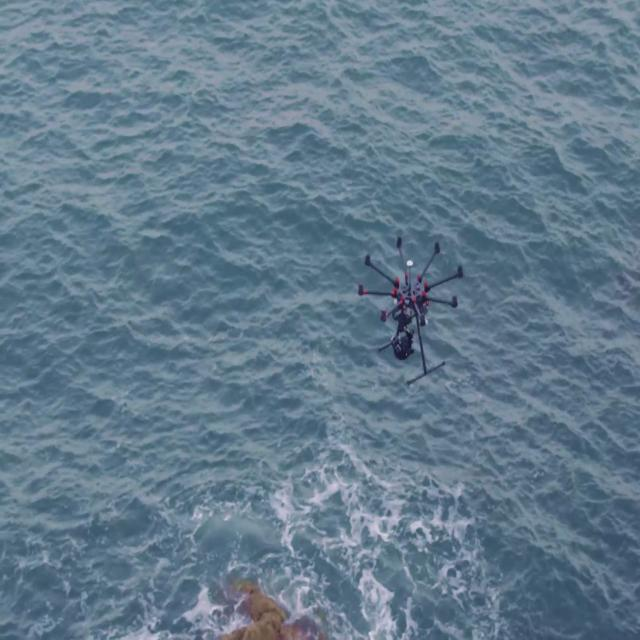drone: (352, 226, 469, 391)
